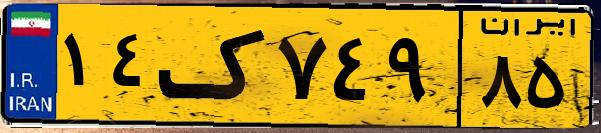1: (57, 26, 110, 100)
4: (330, 28, 385, 110), (110, 28, 158, 98)
5: (525, 38, 570, 115)
7: (270, 28, 330, 110)
8: (475, 38, 525, 113)
9: (385, 28, 445, 110)
ک: (158, 12, 270, 120)
